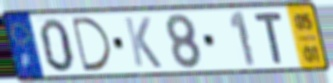0: (37, 16, 77, 74)
1: (228, 10, 258, 70)
8: (164, 12, 204, 71)
D: (68, 16, 114, 74)
K: (122, 15, 164, 70)
T: (252, 11, 286, 66)
